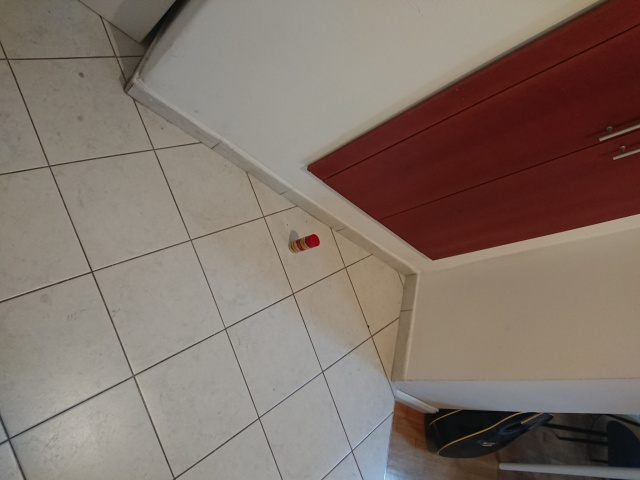Kotanyi Curry Spices Mix 70g: (286, 233, 321, 255)
